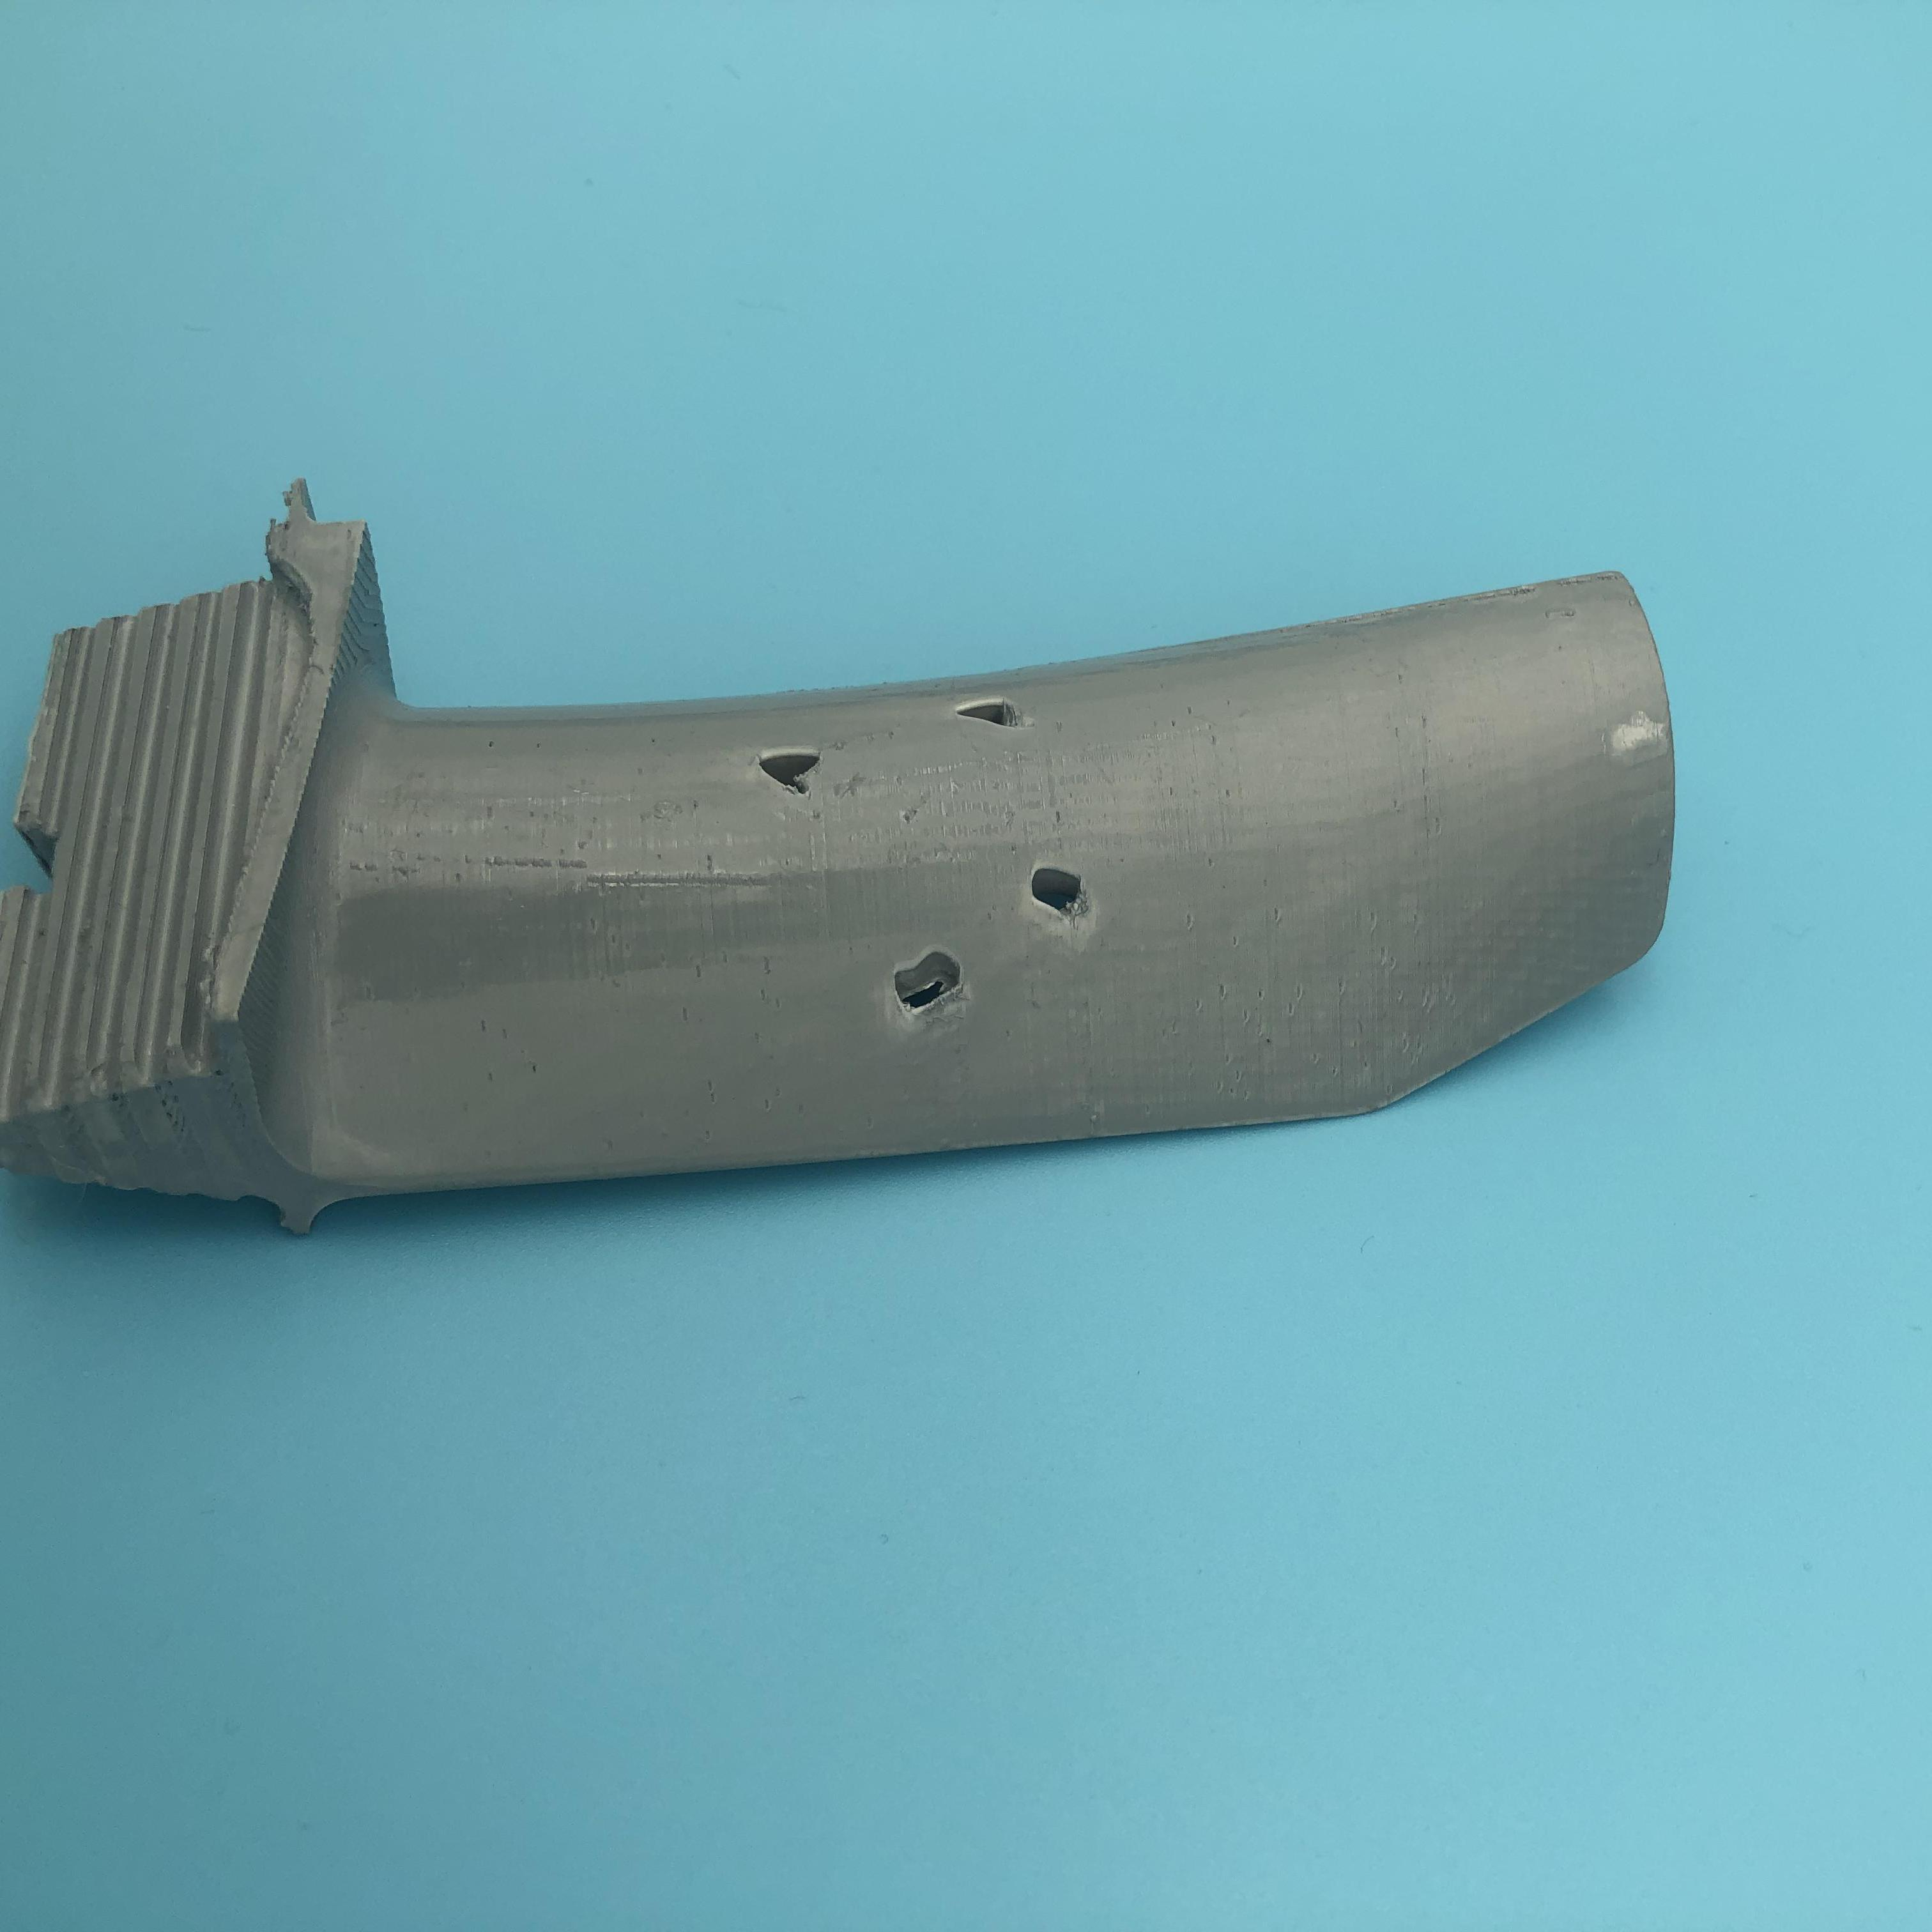breakdown: (895, 860, 1106, 1033), (750, 695, 1040, 798)
